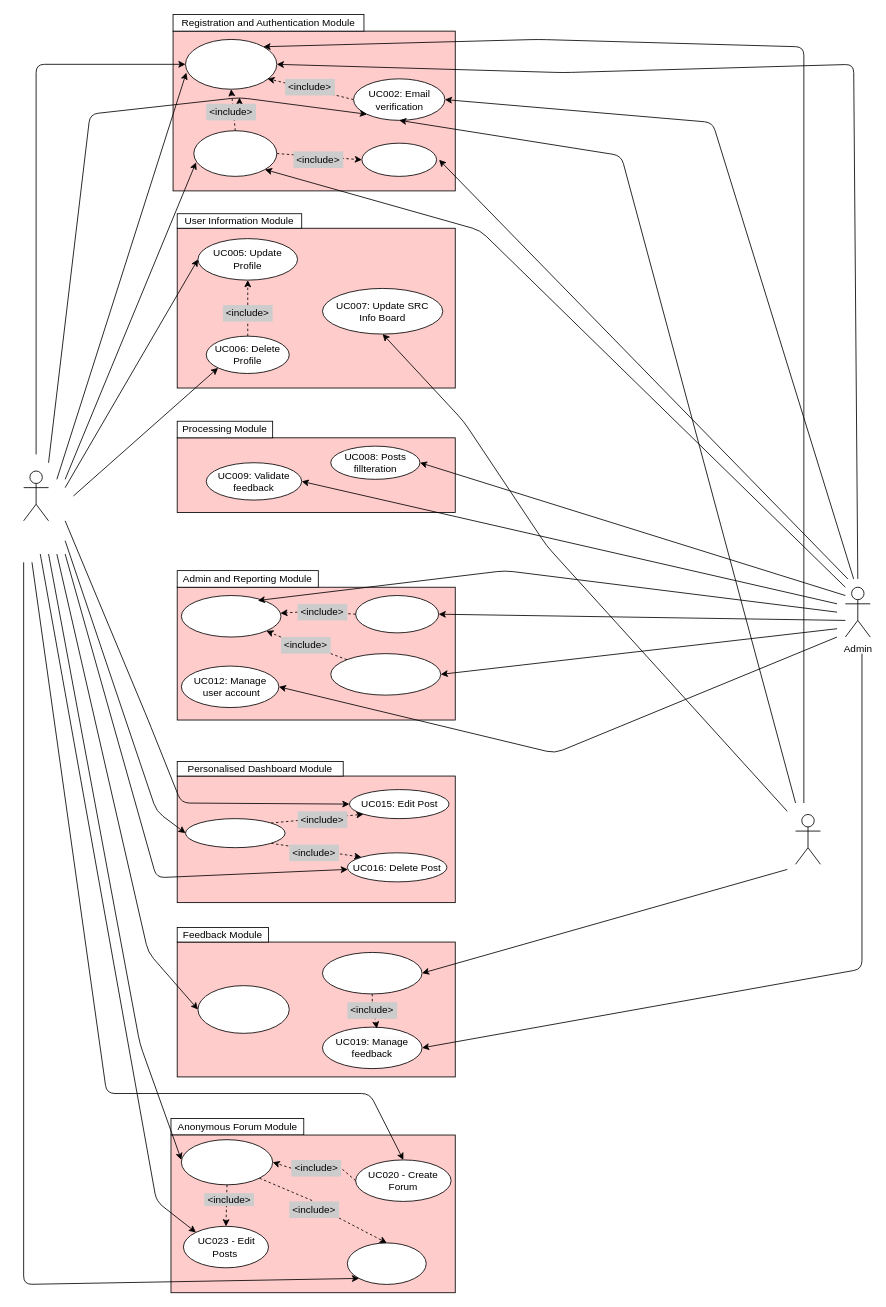
Some shapes in this 886 by 1307 pixel diagram are drawn without their labels. The box of each missing label's shape, as (x1, y1, x2, y2) in pixels:
SRC: (795, 814, 820, 864)
Student & Lecturer: (23, 470, 49, 521)
UC001: Sign Up (UTM Email): (185, 39, 277, 89)
UC003: Reset password: (193, 130, 277, 176)
UC004: Login: (361, 142, 437, 176)
UC010: Generate Report: (181, 595, 281, 637)
UC011: View Report: (355, 595, 439, 633)
UC013: Download Report: (330, 653, 441, 695)
UC014: Make Post: (185, 818, 285, 848)
UC017: View feedback: (322, 952, 422, 994)
UC018: Submit feedback: (197, 985, 289, 1033)
UC021- Forum Posting: (181, 1139, 273, 1185)
UC022-Forum Comments: (347, 1242, 426, 1284)
